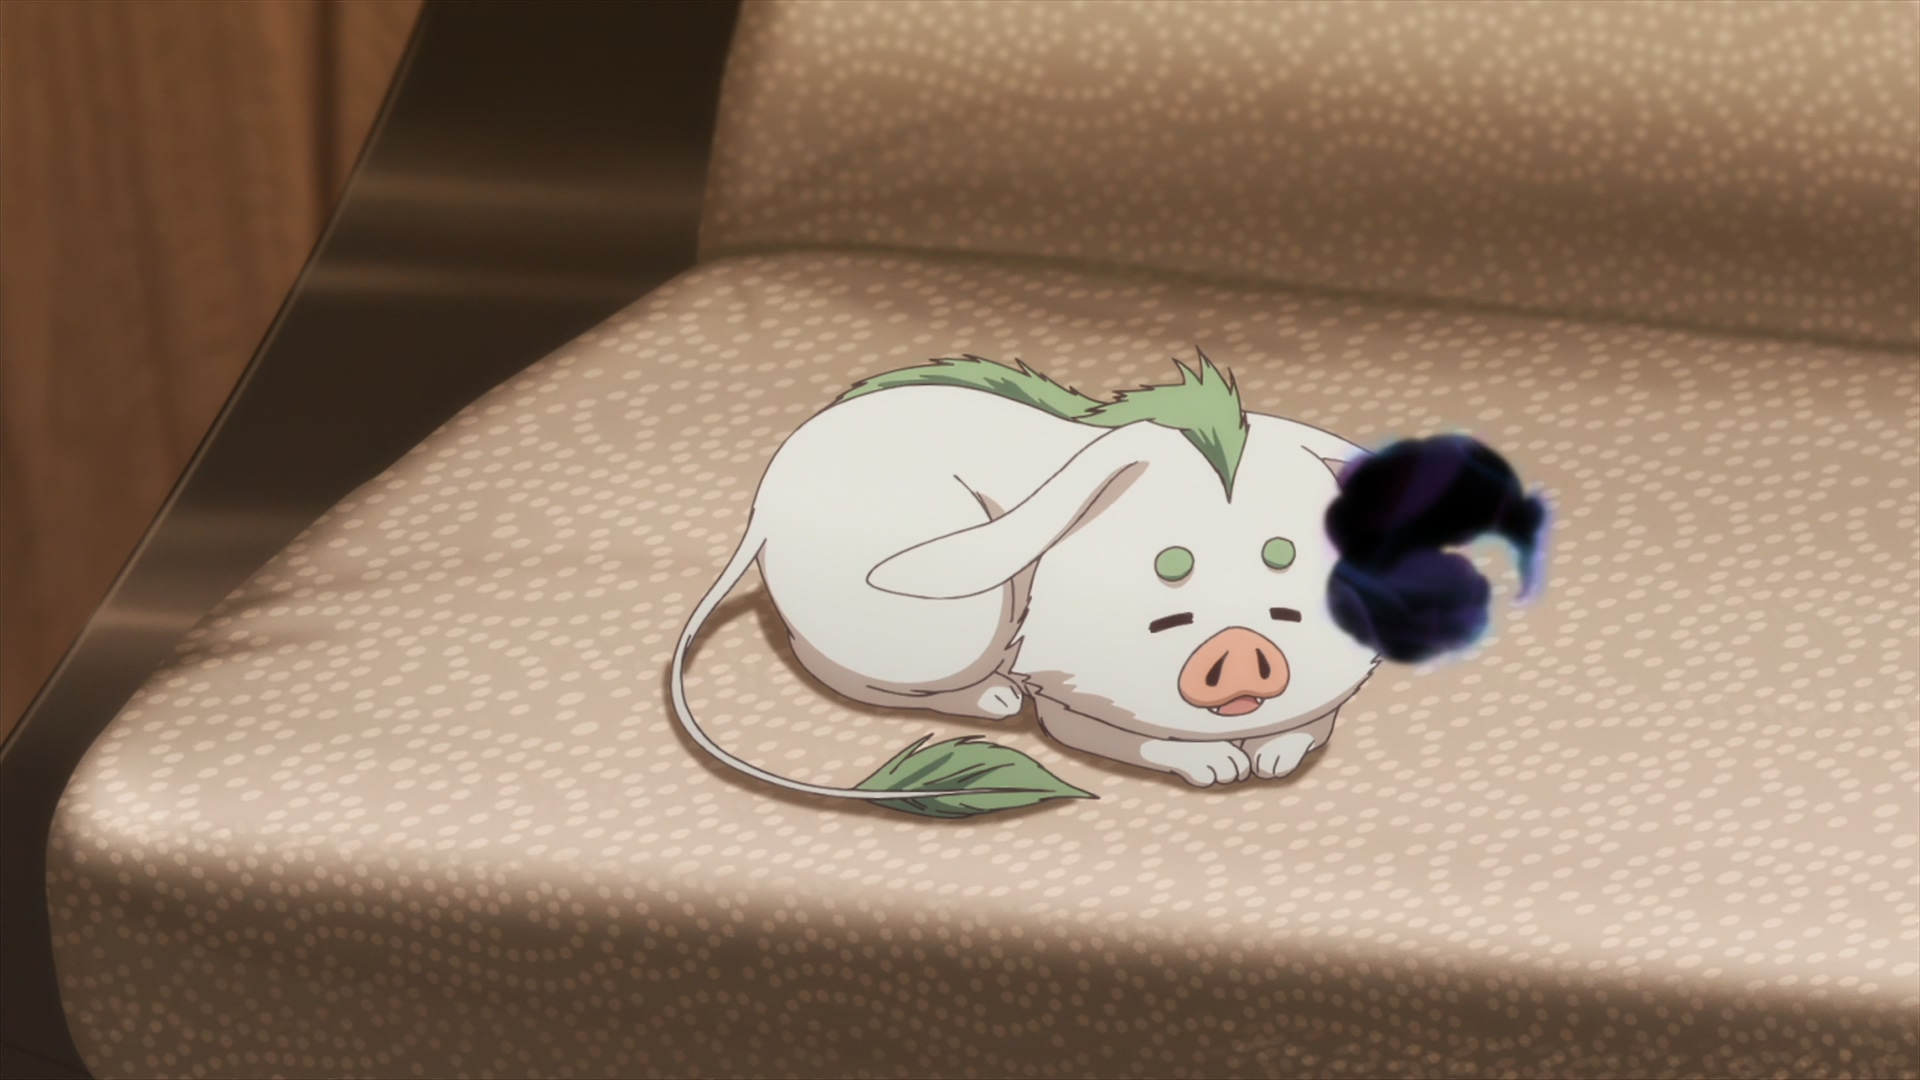瓜之介: (669, 347, 1549, 829)
